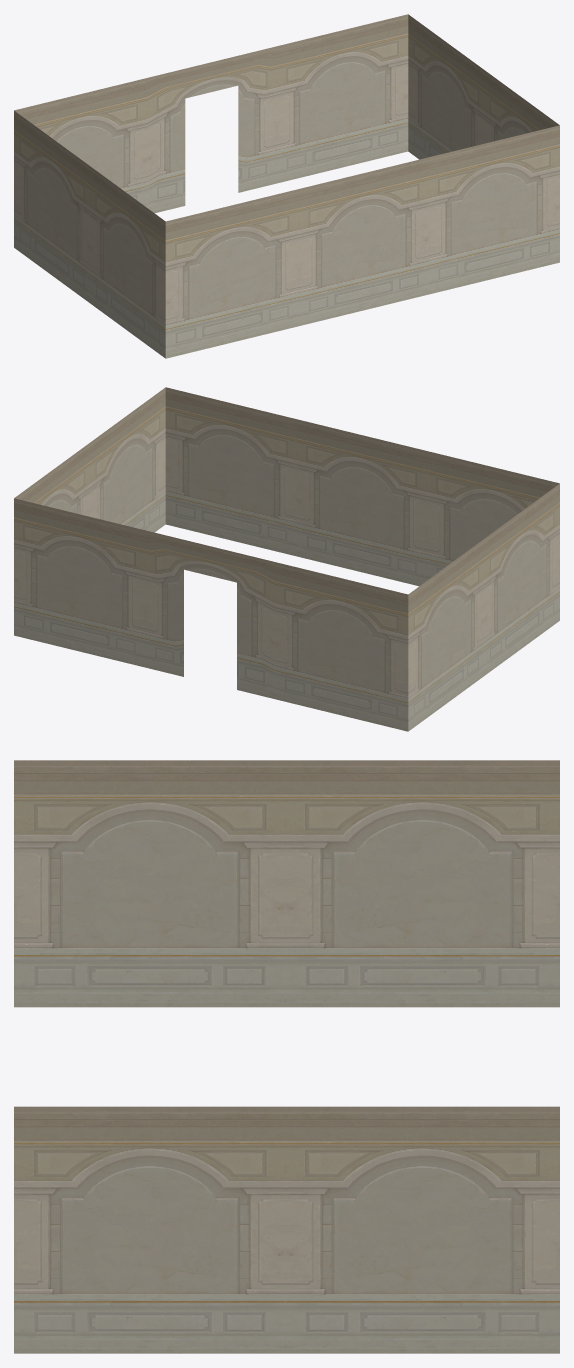
The model's file is Homeworld_Interior_Fd_Room_B_Filling_01_Vo.fbx.
3 views of the same model, one above another, from view 1: azimuth 30°, elevation 25°; view 2: azimuth 150°, elevation 25°; view 3: azimuth 270°, elevation 25° (orthographic). The views are drawn at different scales.
Visible parts, largest first — view 1: Homeworld_Interior_Fd_Room_B_Filling_01_Vo; view 2: Homeworld_Interior_Fd_Room_B_Filling_01_Vo; view 3: Homeworld_Interior_Fd_Room_B_Filling_01_Vo.
Boxes of the visible parts, <box> form: Homeworld_Interior_Fd_Room_B_Filling_01_Vo: <box>14,14,559,358</box>; Homeworld_Interior_Fd_Room_B_Filling_01_Vo: <box>14,387,559,731</box>; Homeworld_Interior_Fd_Room_B_Filling_01_Vo: <box>14,760,559,1353</box>.
Size of the model in its own units: 14.97 by 4.98 by 9.98.
